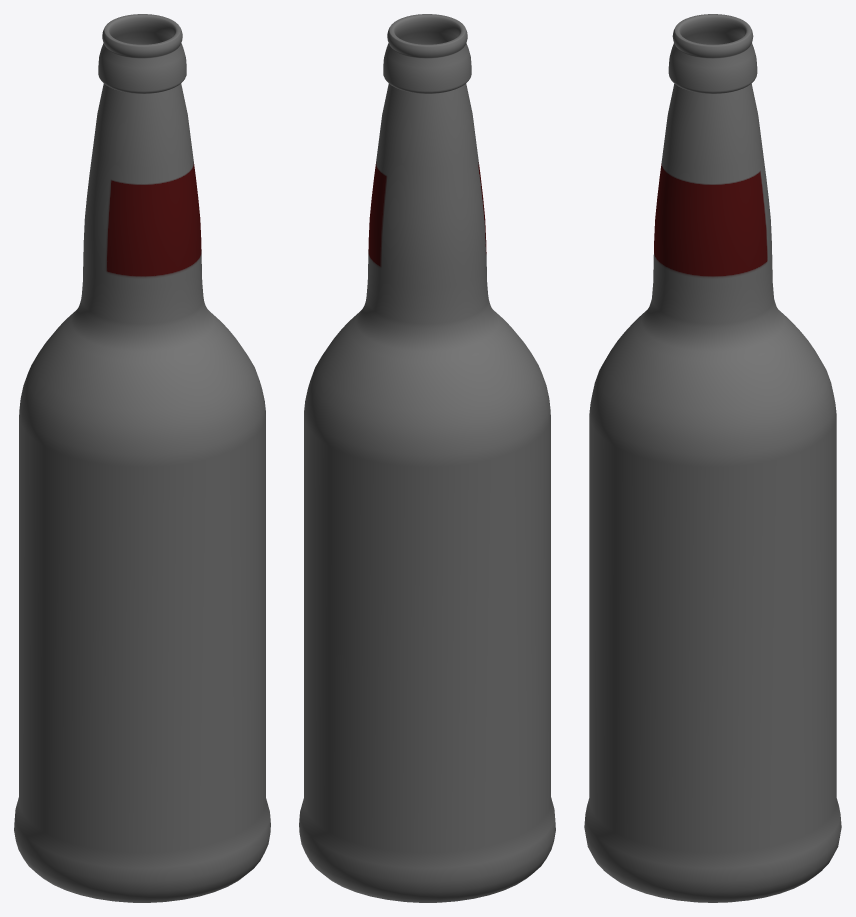
File: sodaBottle.gltf
3 views of the same model, side by side, from view 1: azimuth 30°, elevation 25°; view 2: azimuth 150°, elevation 25°; view 3: azimuth 270°, elevation 25° (orthographic).
Parts seen in each view (by area): view 1: sodaBottle_low; view 2: sodaBottle_low; view 3: sodaBottle_low.
Boxes of the visible parts, x1,y1,x2,y2 form: sodaBottle_low: [14, 14, 270, 902]; sodaBottle_low: [299, 14, 555, 902]; sodaBottle_low: [584, 14, 841, 902].
Bounding box in the file's own units: 0.0648 × 0.231 × 0.0648.
2 materials, 2 textured.
